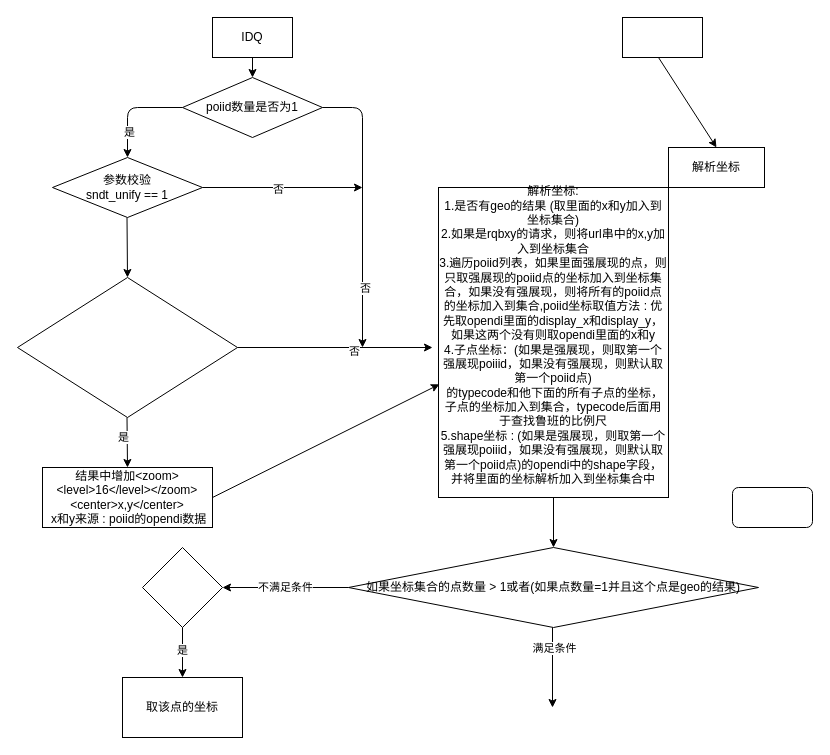
The diagram is 830 pixels wide and 755 high, and some of its shapes have lost their labels. The box of each missing label's shape, as (x1, y1, x2, y2) in pixels:
typecode是否是060100|060101|060102|060103: (16, 276, 238, 418)
坐标集合的数量=1?: (142, 546, 222, 628)
结束: (732, 486, 812, 528)
非IDQ: (622, 16, 702, 58)
